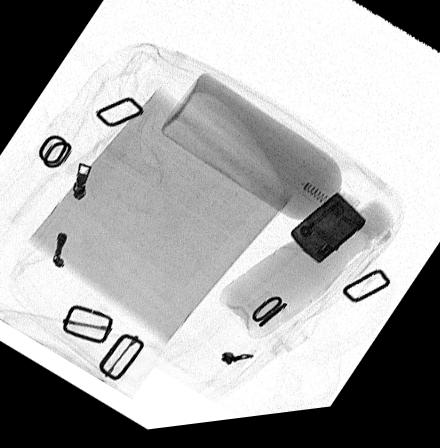Lighter: (288, 198, 366, 271)
